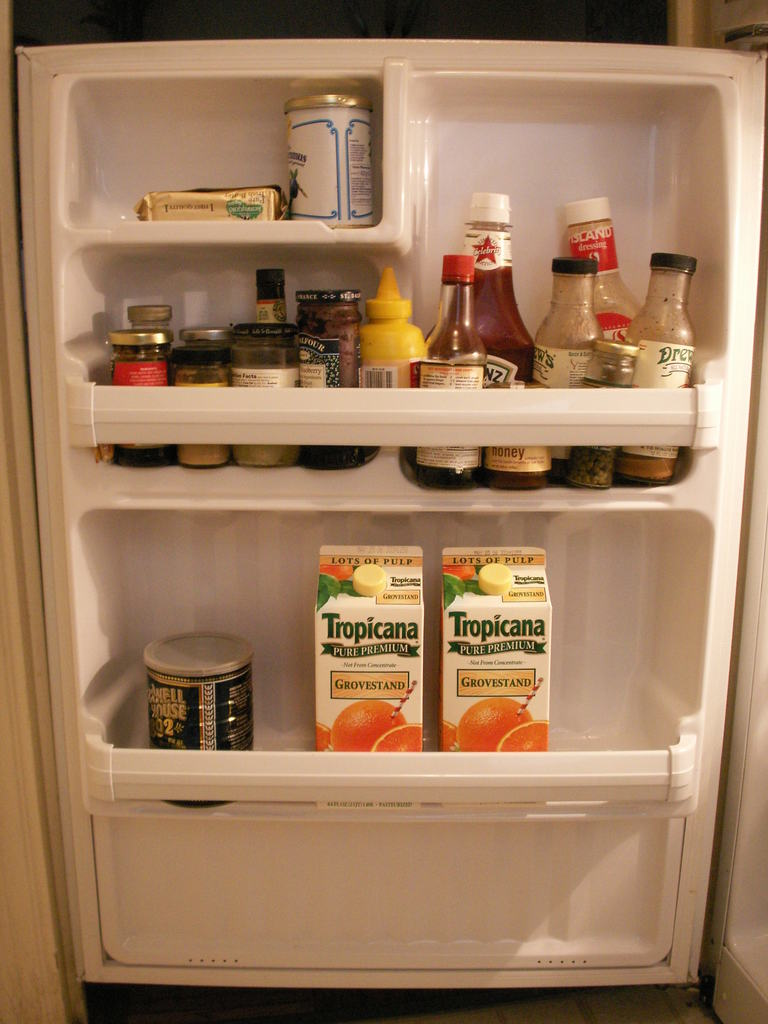refrigerator door: (29, 64, 706, 961)
